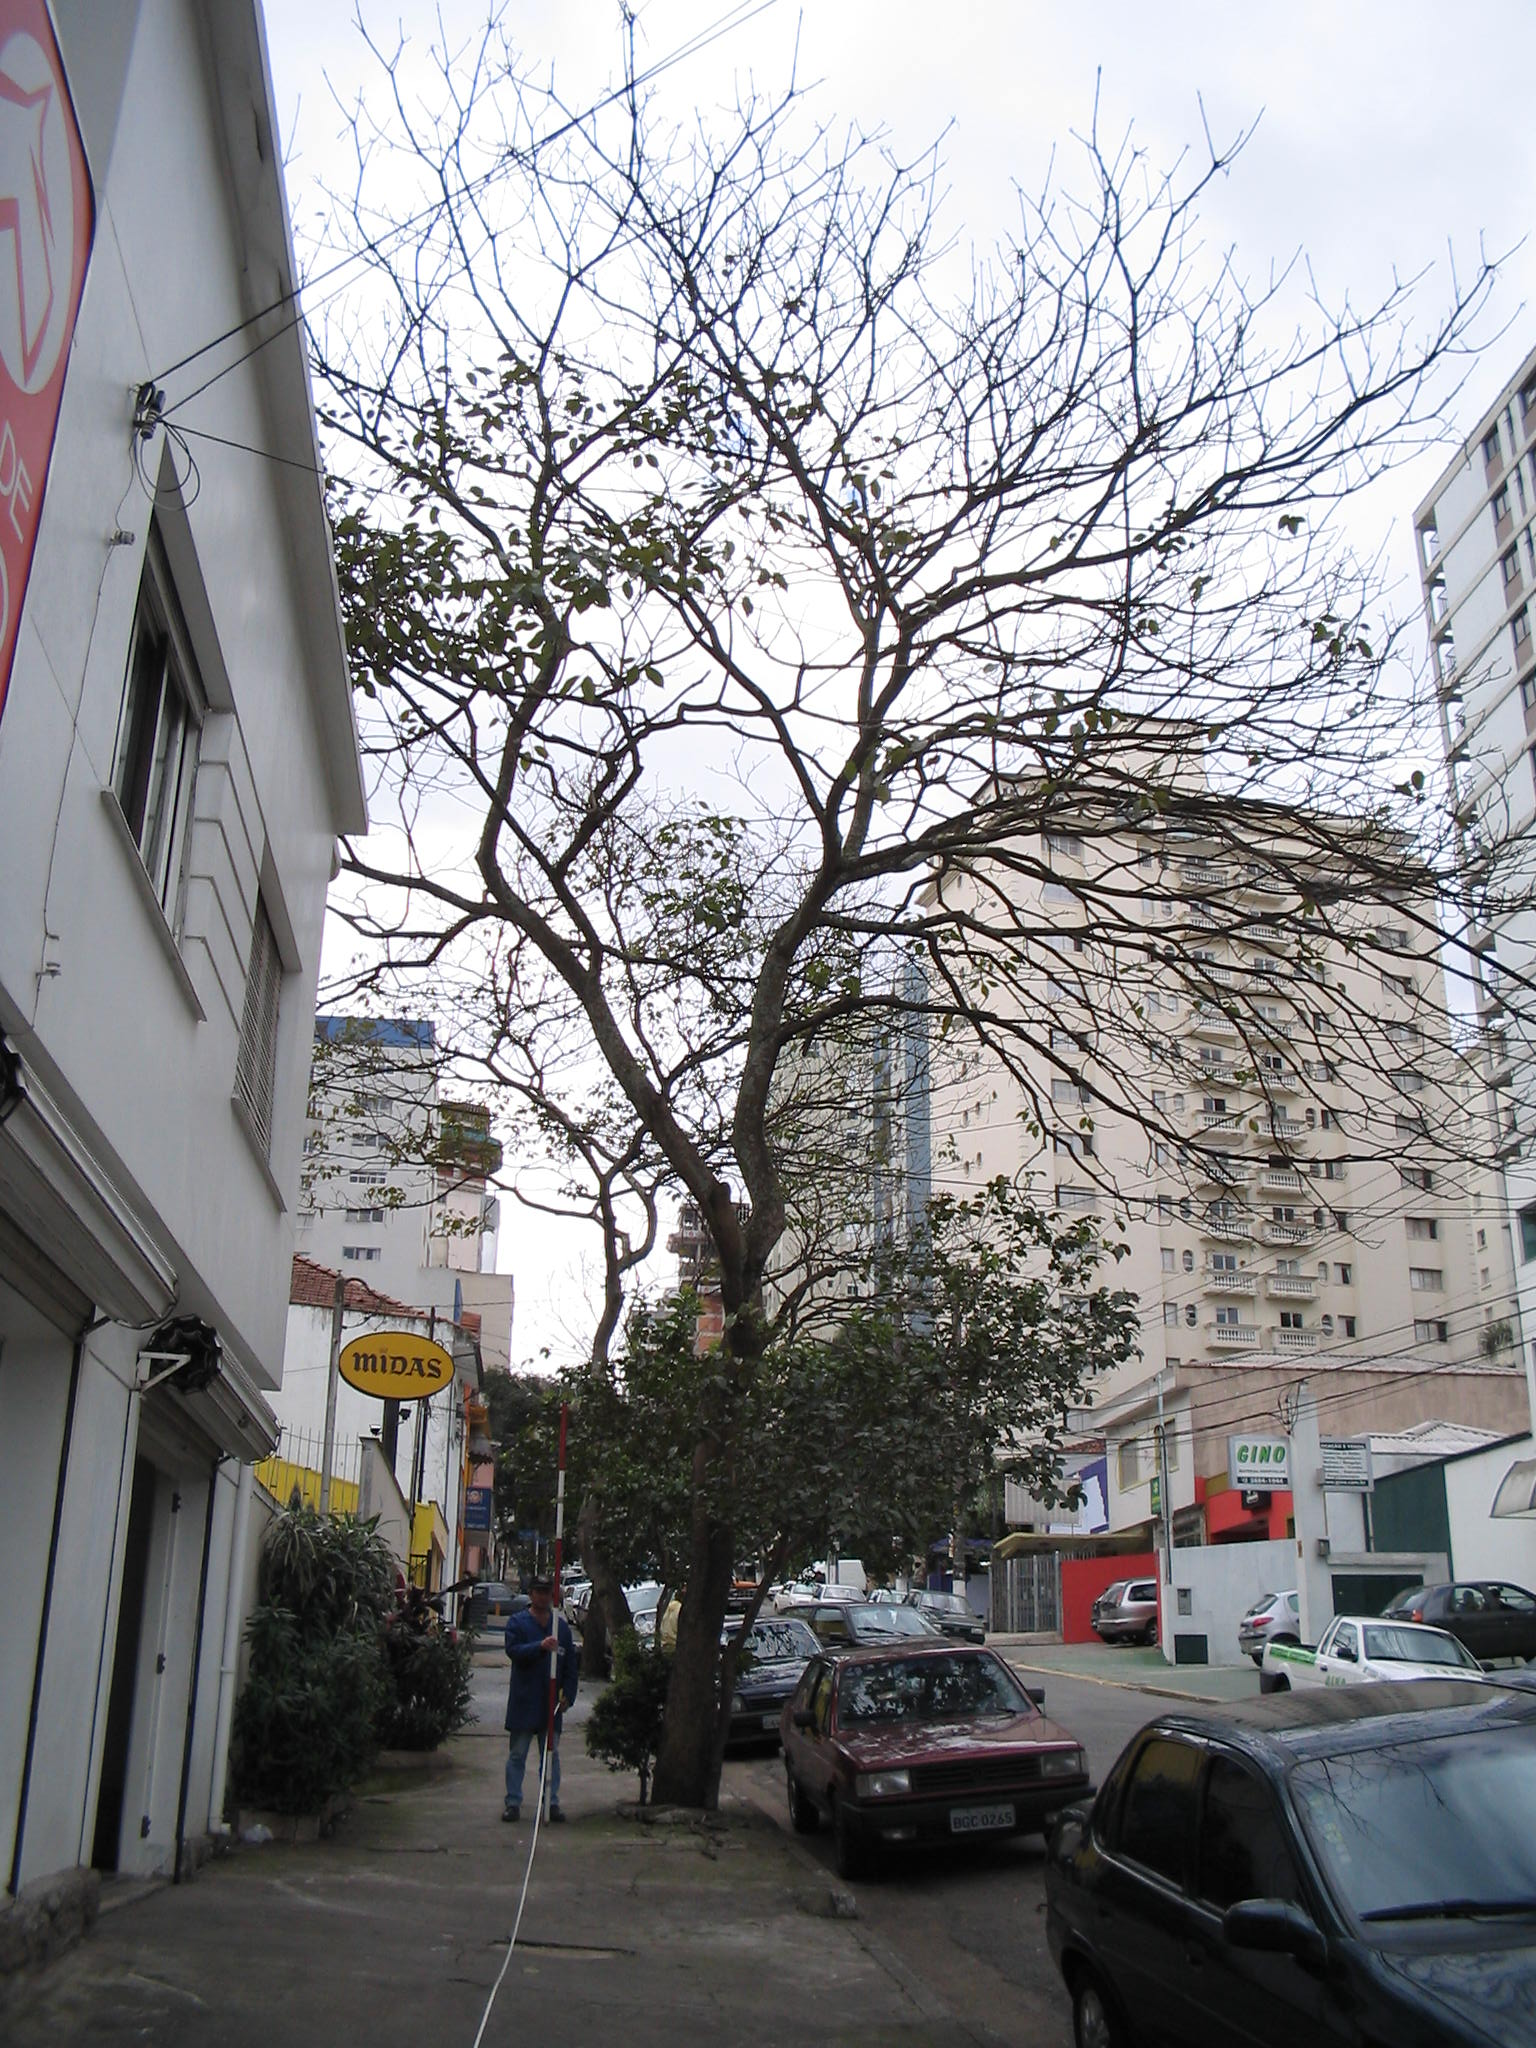stem: (647, 1363, 789, 1808)
stick: (511, 1405, 591, 1819)
tree: (298, 11, 1536, 1817)
